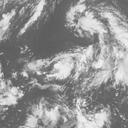cyclone: (43, 48, 94, 91)
